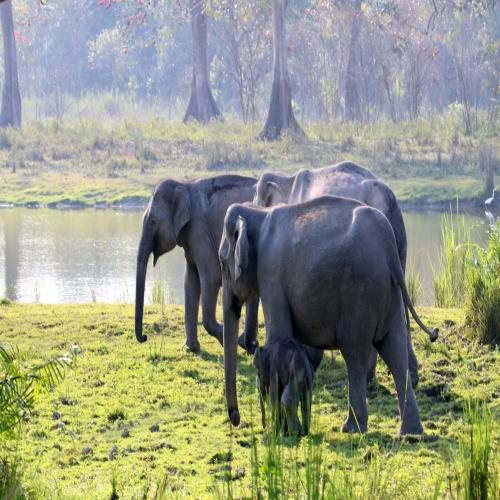asian_elephant-endangered: (221, 201, 424, 435), (135, 177, 262, 349), (255, 164, 405, 275), (251, 341, 311, 437)
